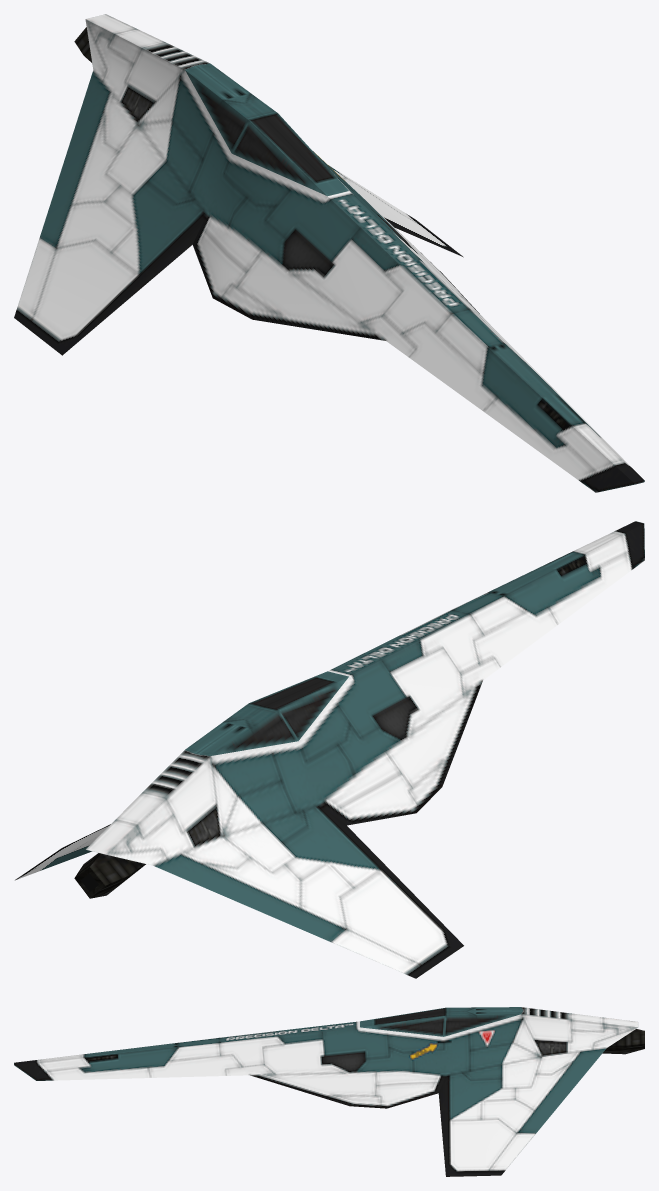
The model's file is Precision.dae.
3 renders of one model, top to bottom at view 1: azimuth 30°, elevation 25°; view 2: azimuth 150°, elevation 25°; view 3: azimuth 270°, elevation 25°, orthographic. The views are drawn at different scales.
Parts seen in each view (by area): view 1: PrecisionShip_NoAB; view 2: PrecisionShip_NoAB; view 3: PrecisionShip_NoAB.
Part boxes in pixels (<box>): PrecisionShip_NoAB: <box>14,14,644,492</box>; PrecisionShip_NoAB: <box>15,521,644,978</box>; PrecisionShip_NoAB: <box>14,1007,644,1176</box>.
Bounding box in the file's own units: 1.51 × 0.6884 × 3.58.
